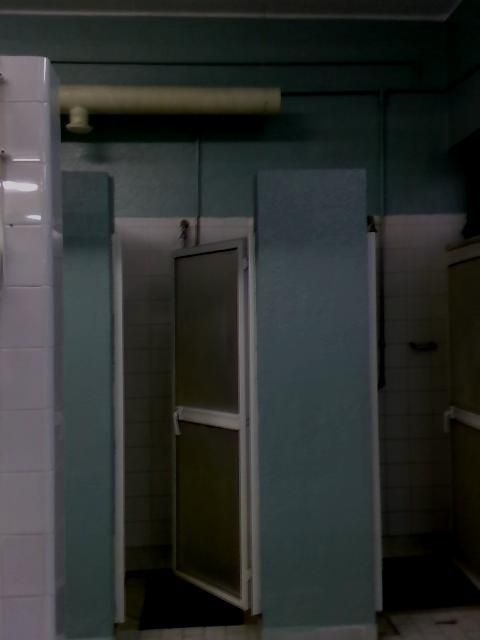semi_door: (104, 214, 265, 630)
